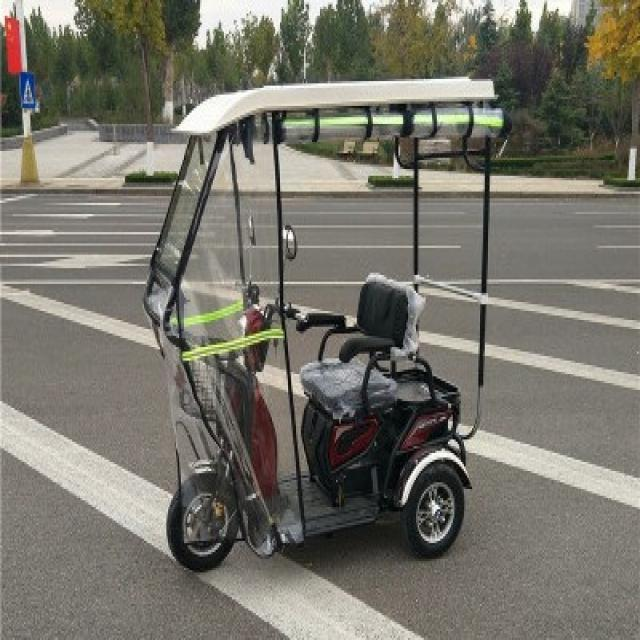pole: (14, 0, 28, 137)
tricycle: (141, 65, 507, 570)
